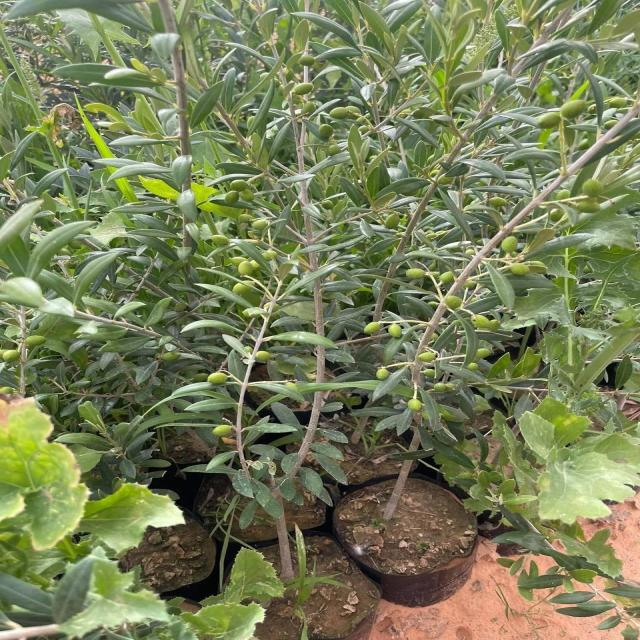Healthy: (225, 179, 254, 206), (582, 179, 603, 198), (211, 424, 233, 438), (509, 262, 531, 276), (472, 314, 491, 329), (501, 236, 517, 253), (207, 372, 227, 385), (329, 107, 348, 120), (405, 268, 425, 280), (238, 260, 253, 276), (385, 213, 400, 229), (25, 335, 46, 346), (445, 295, 461, 309), (317, 124, 333, 138), (363, 322, 381, 334), (295, 84, 314, 95), (3, 349, 19, 362), (388, 324, 402, 338), (418, 352, 437, 362), (408, 398, 422, 411), (375, 368, 390, 380), (211, 235, 229, 245), (255, 350, 271, 361)
